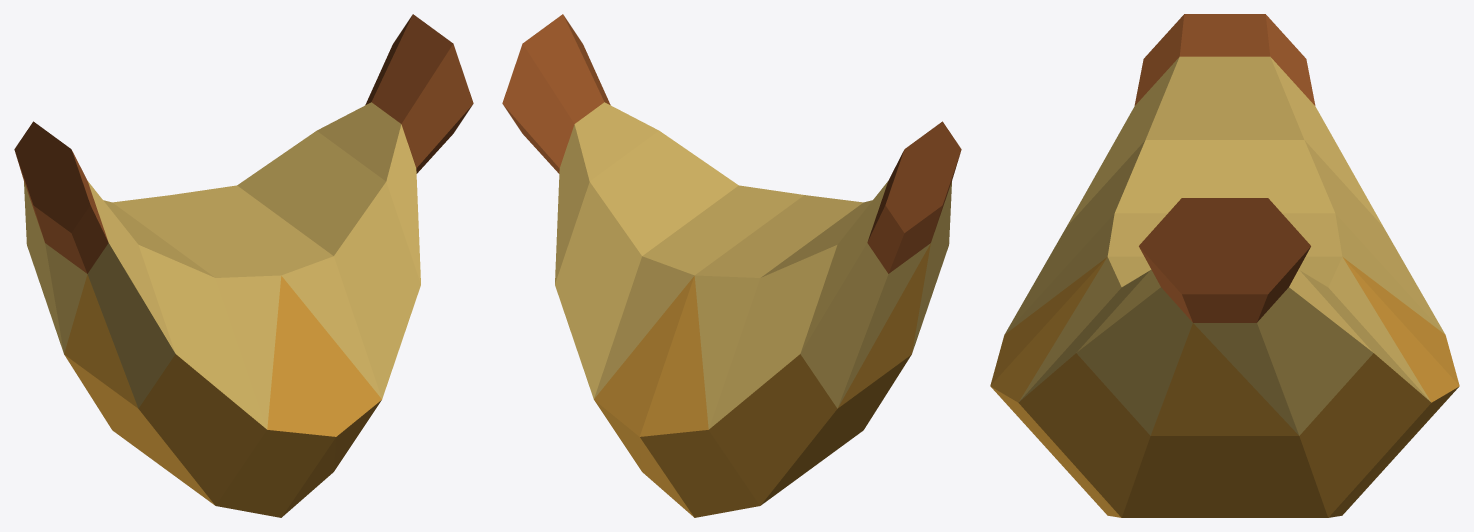
File: banana.glb
3 renders of one model, left to right at view 1: azimuth 30°, elevation 25°; view 2: azimuth 150°, elevation 25°; view 3: azimuth 270°, elevation 25°, orthographic. The views are drawn at different scales.
Bounding box in the file's own units: 1 × 1 × 1.
